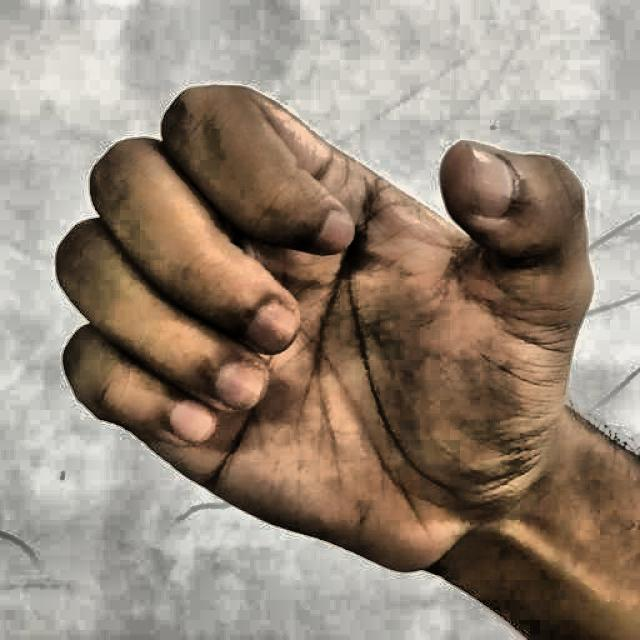Dho: (35, 65, 611, 616)
